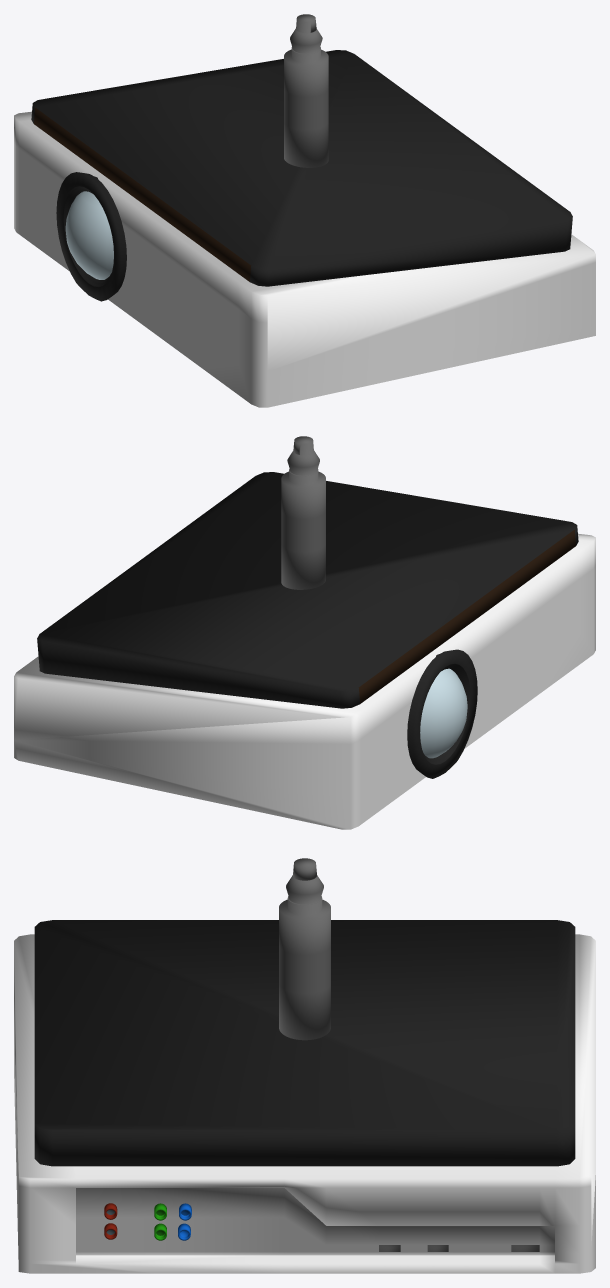
The model's file is Proyector_IgnacioB_46871787.fbx.
3 views of the same model, one above another, from view 1: azimuth 30°, elevation 25°; view 2: azimuth 150°, elevation 25°; view 3: azimuth 270°, elevation 25° (orthographic). The views are drawn at different scales.
Visible parts, largest first — view 1: Proyector Unificado; view 2: Proyector Unificado; view 3: Proyector Unificado.
Part boxes in pixels (box(x1,y1,x2,y2)): Proyector Unificado: box(14, 14, 595, 407); Proyector Unificado: box(14, 436, 595, 829); Proyector Unificado: box(14, 858, 595, 1273).
Size of the model in its own units: 191 by 134 by 225.
Materials: 1 (1 with a texture image).
